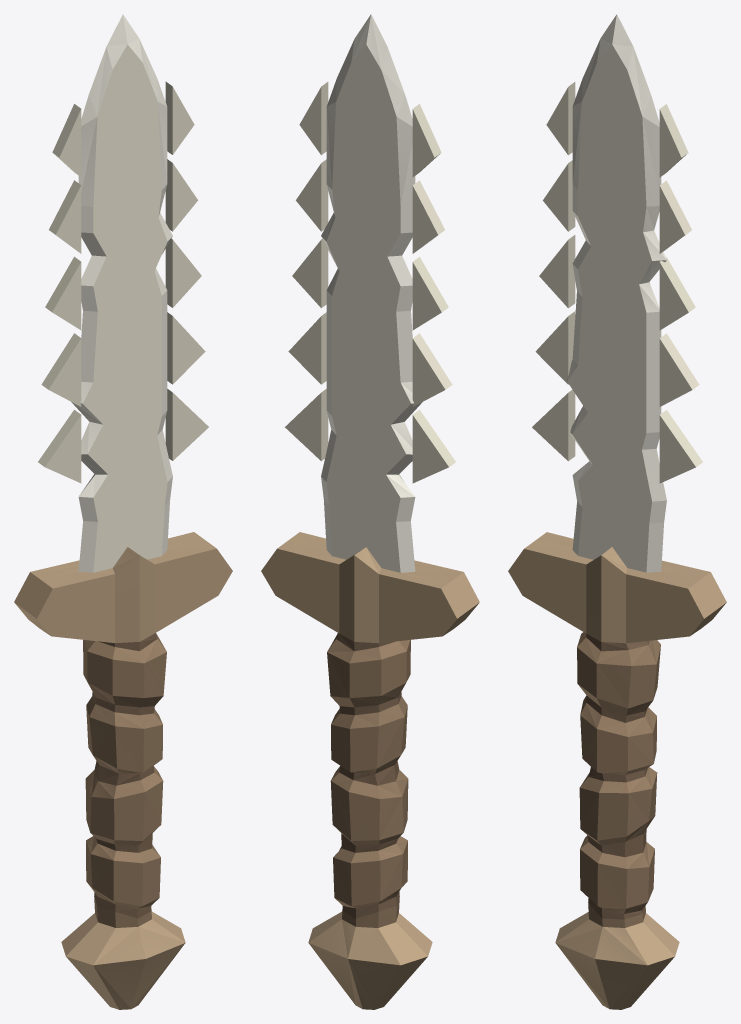
The model's file is daga_hueso.glb.
3 views of the same model, side by side, from view 1: azimuth 30°, elevation 25°; view 2: azimuth 150°, elevation 25°; view 3: azimuth 330°, elevation 25° (orthographic).
Parts seen in each view (by area): view 1: daga_hueso; view 2: daga_hueso; view 3: daga_hueso.
Boxes of the visible parts, <box> form: daga_hueso: <box>14,14,232,1009</box>; daga_hueso: <box>261,14,479,1009</box>; daga_hueso: <box>508,14,726,1009</box>.
Bounding box in the file's own units: 0.644 × 3.11 × 0.2564.
